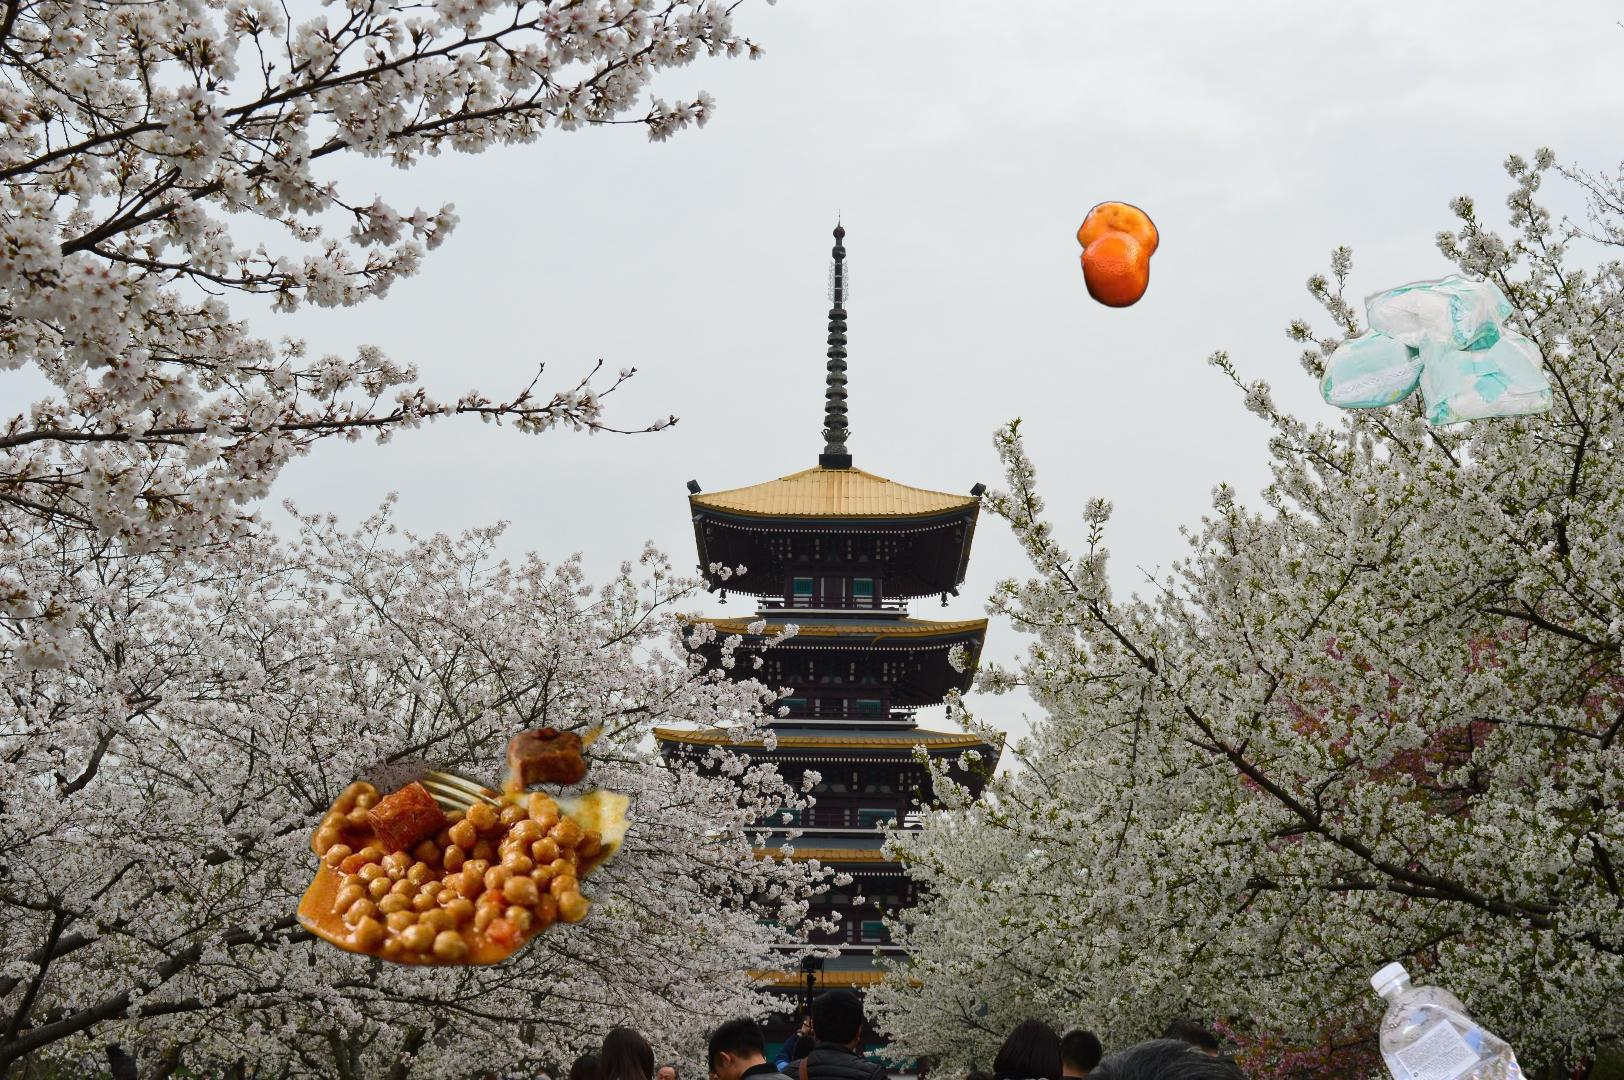biological: (231, 659, 725, 974), (1073, 198, 1161, 310)
plastic-bottles: (1365, 953, 1547, 1080)
trash: (1317, 271, 1557, 429)
